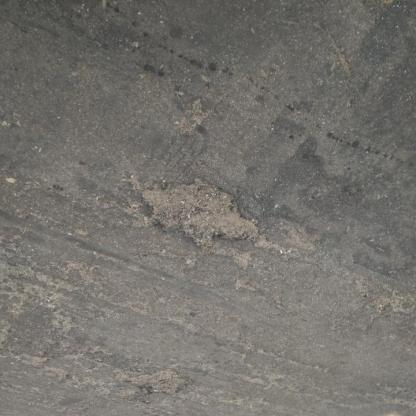pothole: (140, 177, 265, 251), (130, 369, 193, 396)
